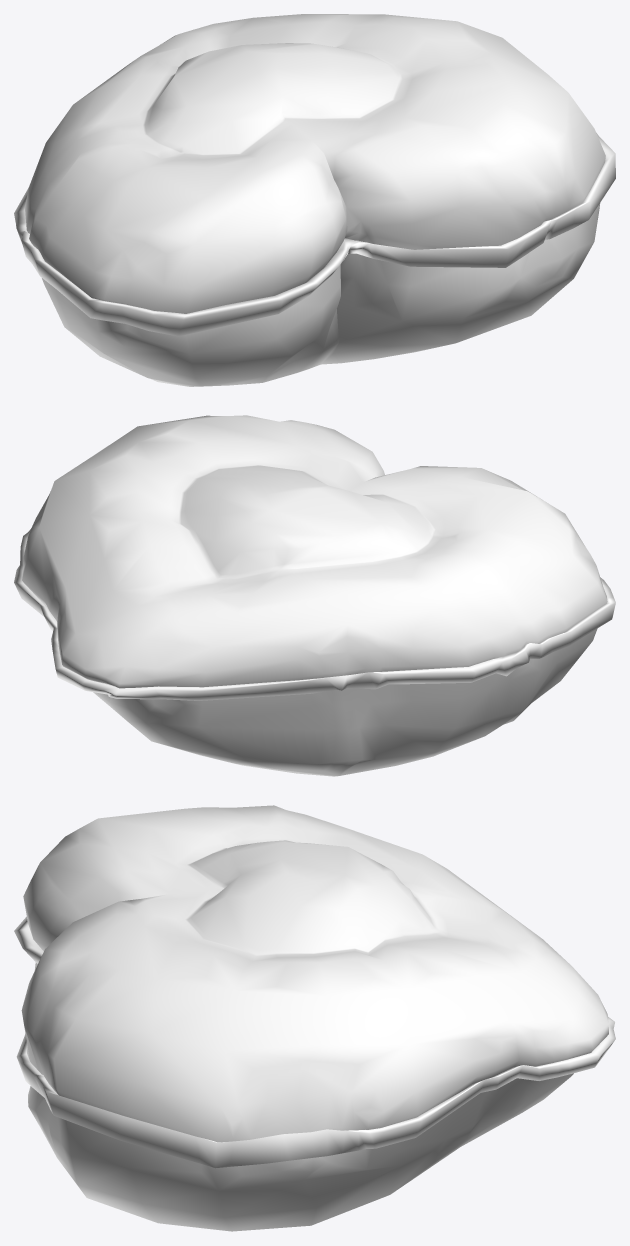
File: Prop_HeartPlush.glb
The picture shows the model from 3 angles, top to bottom: view 1: azimuth 30°, elevation 25°; view 2: azimuth 150°, elevation 25°; view 3: azimuth 270°, elevation 25°; orthographic projection. The views are drawn at different scales.
Parts seen in each view (by area): view 1: Prop_HeartPlush; view 2: Prop_HeartPlush; view 3: Prop_HeartPlush.
Boxes of the visible parts, box(x1,y1,x2,y2) form: Prop_HeartPlush: box(14, 14, 615, 386); Prop_HeartPlush: box(14, 415, 615, 776); Prop_HeartPlush: box(14, 805, 615, 1231).
Size of the model in its own units: 6.11 by 2.82 by 5.29.
Materials: 1 (1 with a texture image).
